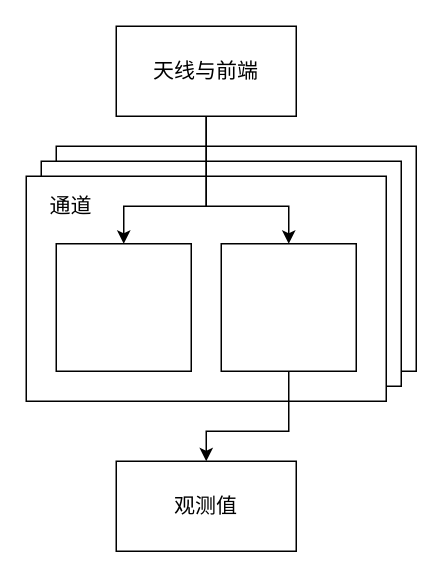
Some shapes in this 443 by 578 pixel diagram are drawn without their labels. Each missing label, with the centre of its shape:
捕获: pixel 123 306
跟踪: pixel 288 306
